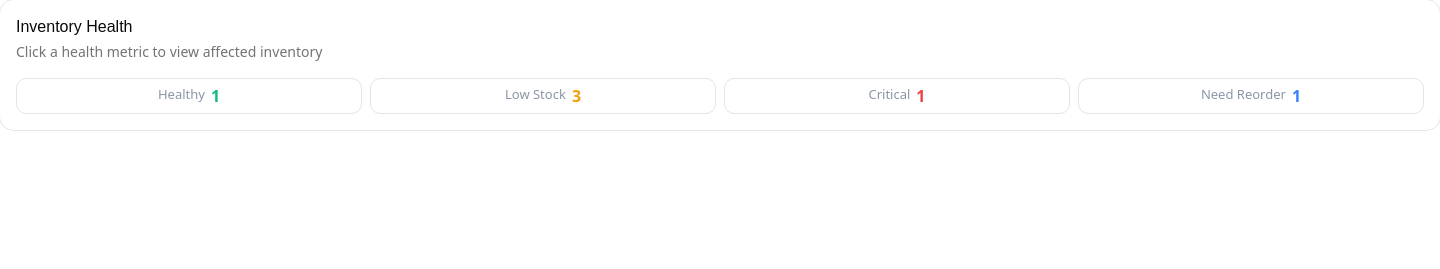
Test case: InventoryHealth › filters critical inventory
The image size is (1440, 269).
Click the button "Critical 1" at (897,96), box [724,78,1070,114]
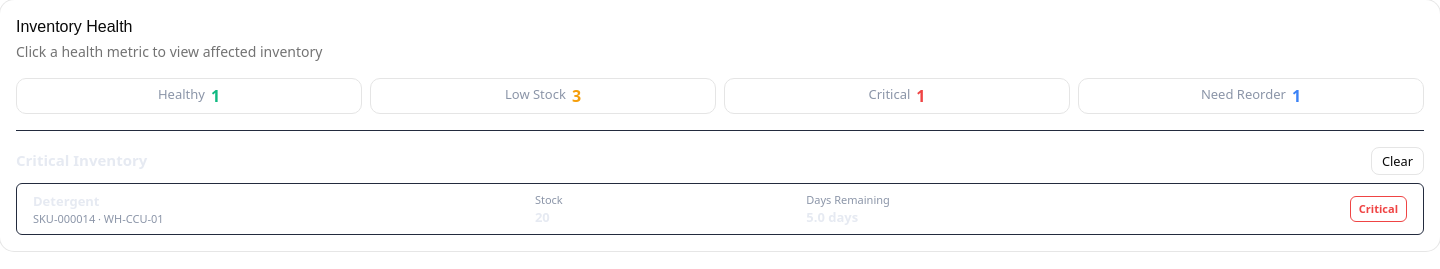
Check: the heading "Critical Inventory" is shown, box [16,150,147,172]
Check: the text "Detergent" is shown, box [33,192,100,210]
Check: the text "5.0 days" is shown, box [806,208,858,226]
